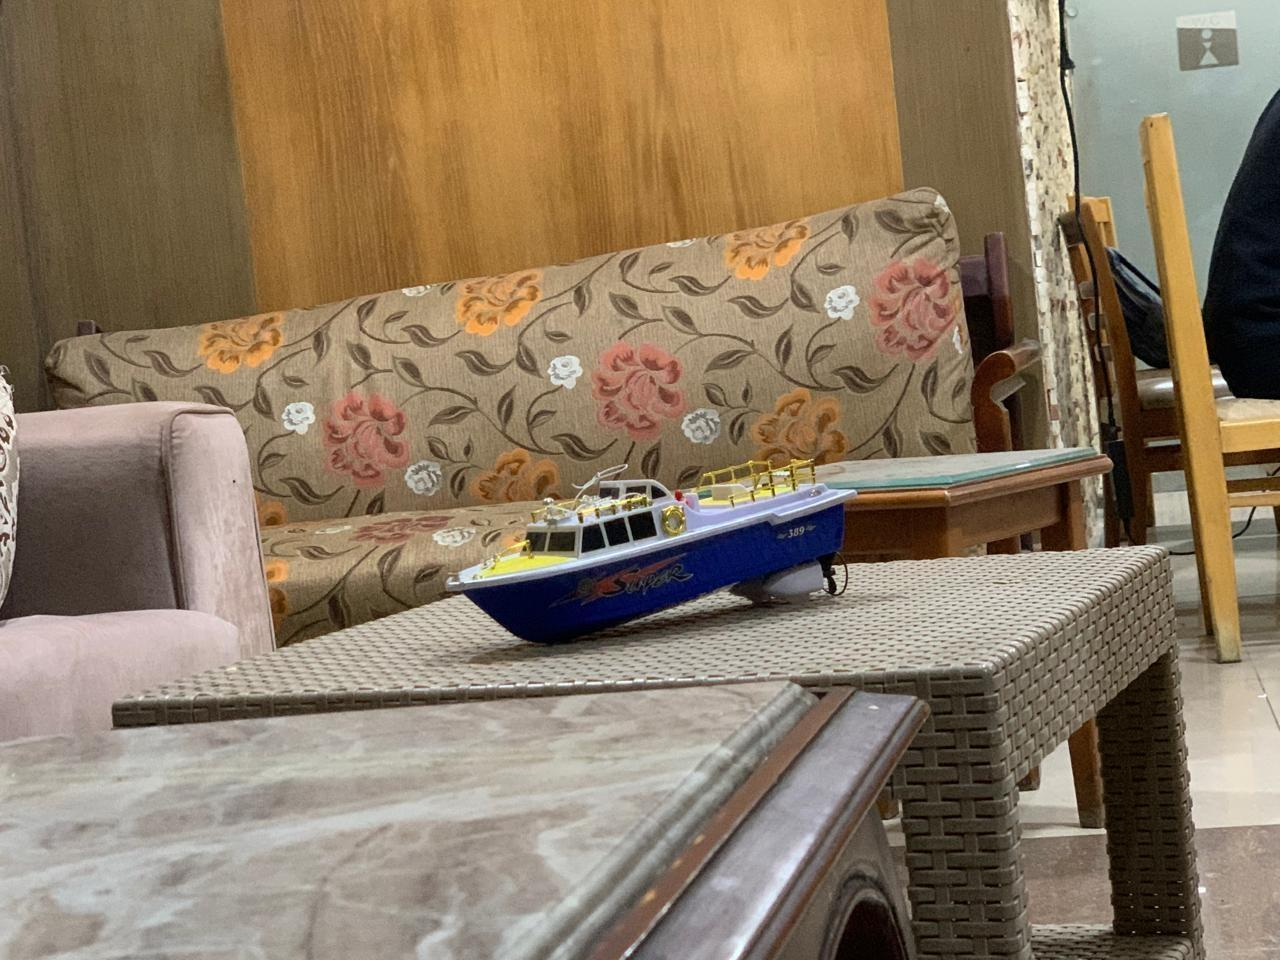Boat: (441, 447, 871, 656)
